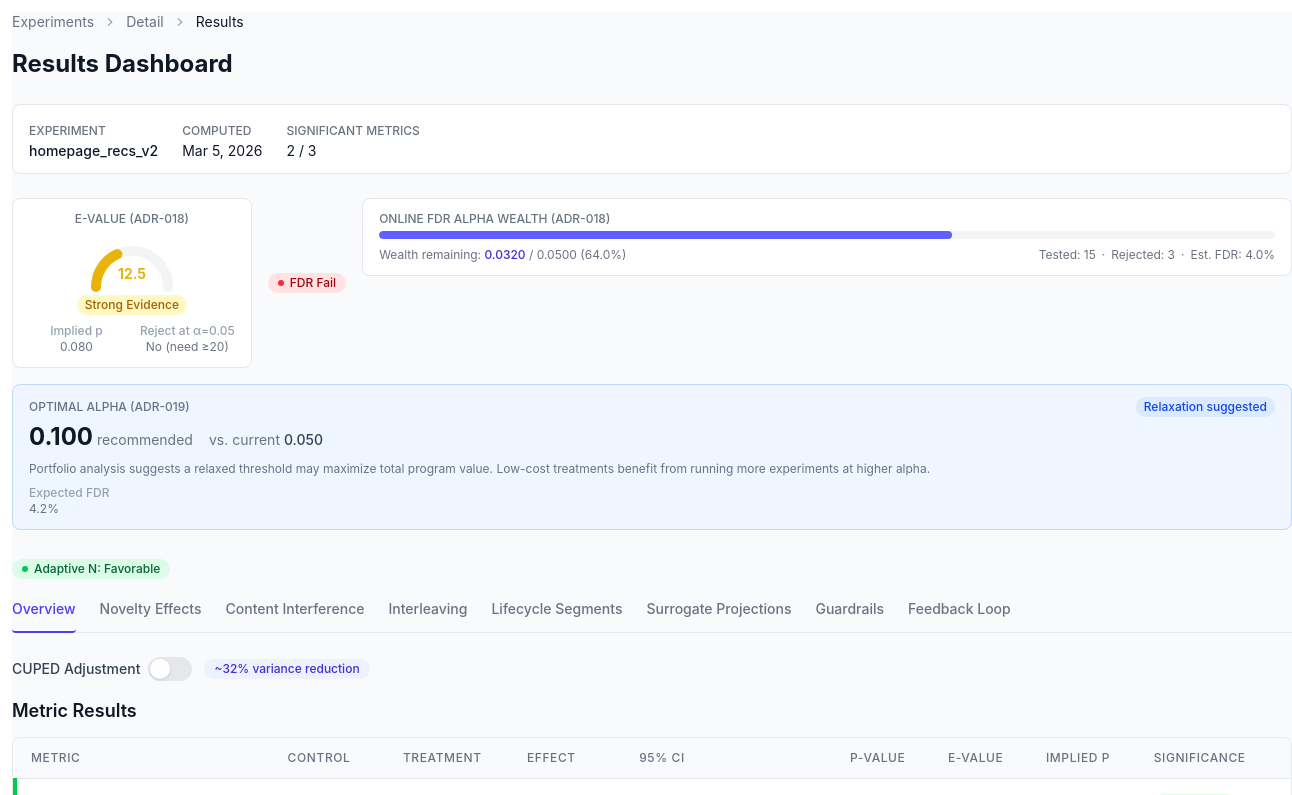
it: Lifecycle Segments Tab - homepage_recs_v2 › shows heterogeneity detection banner with Cochran Q
What coordinates should you click on to do the following:
click the tab "Lifecycle Segments"
I would click on:
 (557, 614)
Its box is [492,595,622,633].
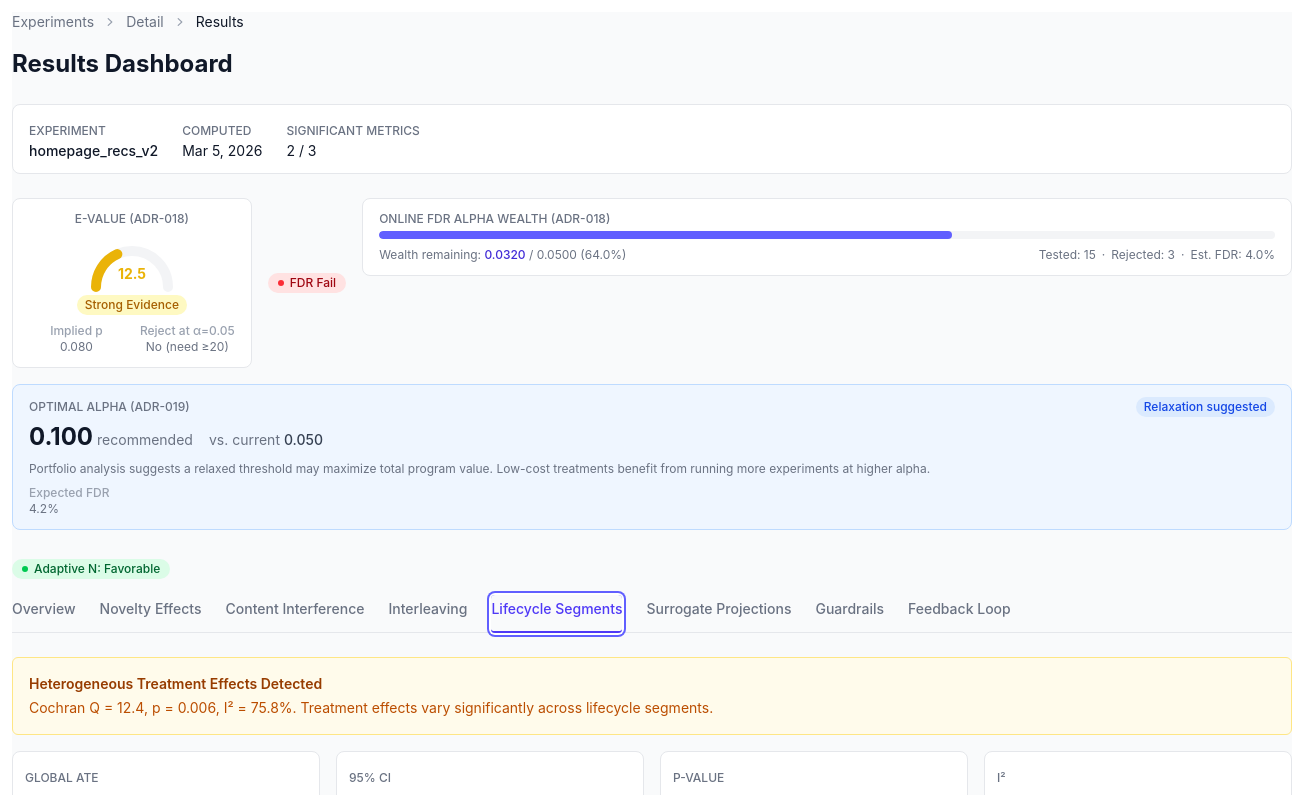
Now the heading "Heterogeneous Treatment Effects Detected" is shown, box [29,675,322,692]
Now the text "Cochran Q = 12.4" is shown, box [29,699,713,716]
